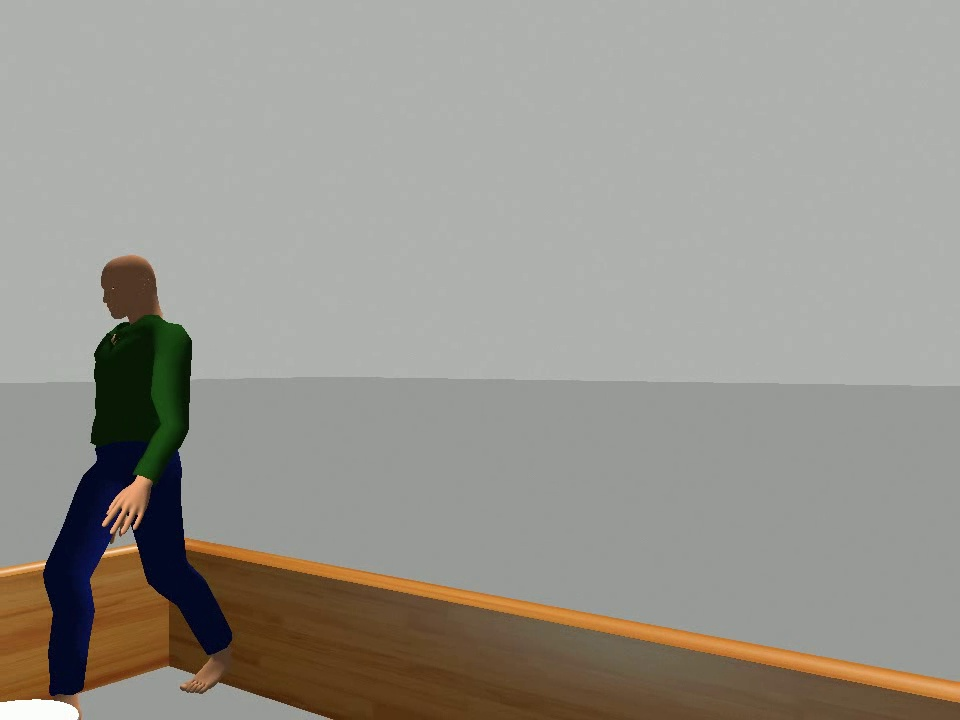person: (41, 252, 238, 717)
